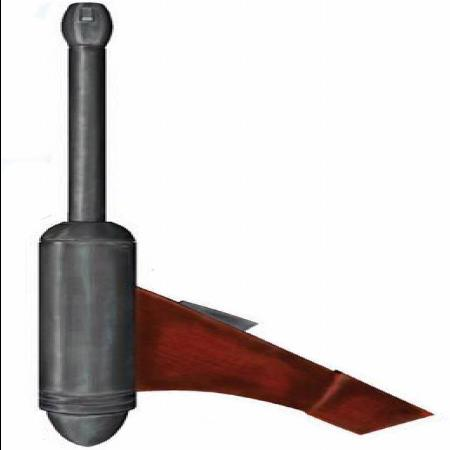Pistol: (20, 1, 440, 445)
